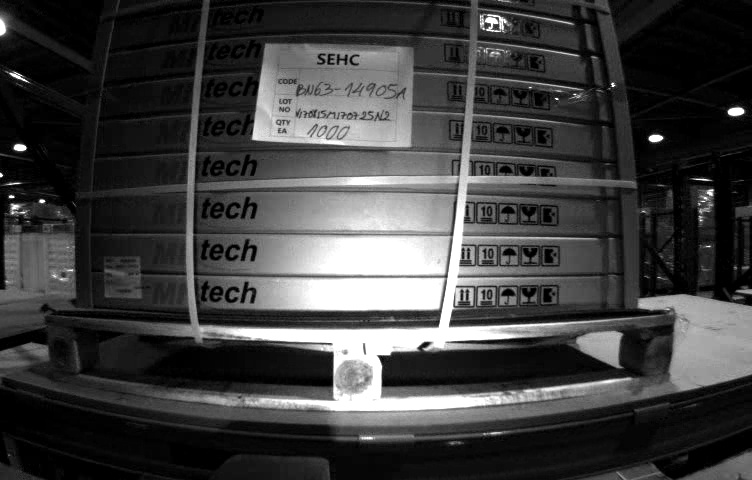True Barcode: (103, 256, 141, 299)
